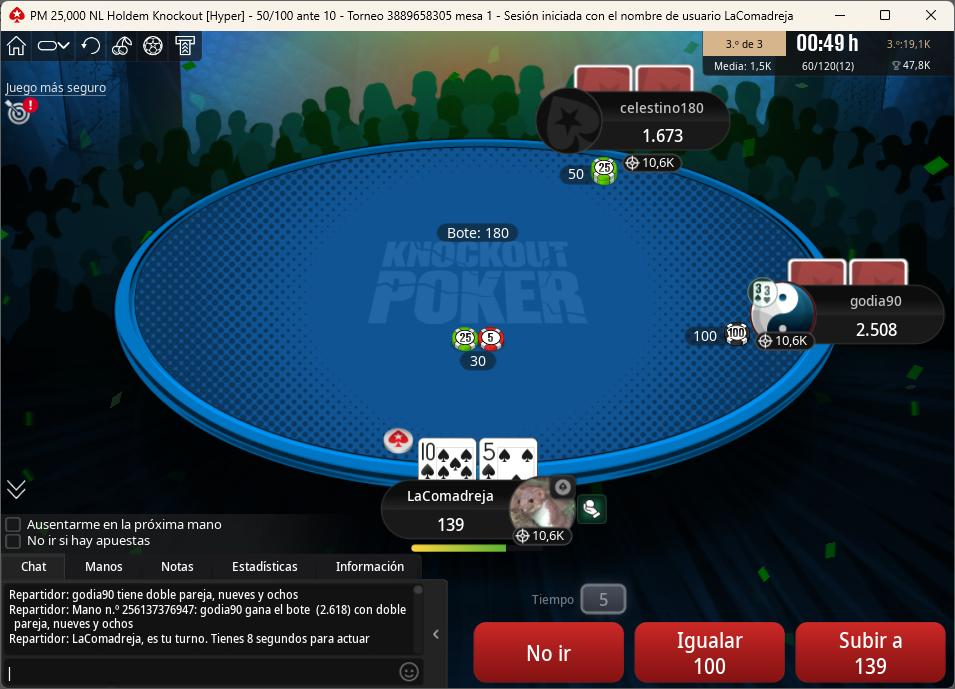ButtonCall: (632, 618, 783, 684)
ButtonFold: (471, 616, 626, 688)
ButtonRaise: (793, 619, 948, 689)
Dealer: (377, 424, 419, 455)
HiddenCards: (786, 257, 911, 286), (572, 66, 697, 95)
Player: (748, 281, 945, 350), (538, 92, 727, 157)
PlayerBet: (552, 154, 627, 198), (685, 319, 751, 349)
PlayerChips: (852, 321, 906, 342)
Pot: (436, 222, 521, 244)
PrincipalCards: (414, 437, 539, 483)
PrincipalCards1: (416, 435, 479, 480)
PrincipalCards2: (478, 434, 543, 483)
PrincipalPlayer: (381, 472, 583, 551)
PrincipalPlayerChips: (435, 514, 474, 537)
SmallBigBlind: (247, 6, 347, 28)
TablePot: (449, 321, 514, 377)
